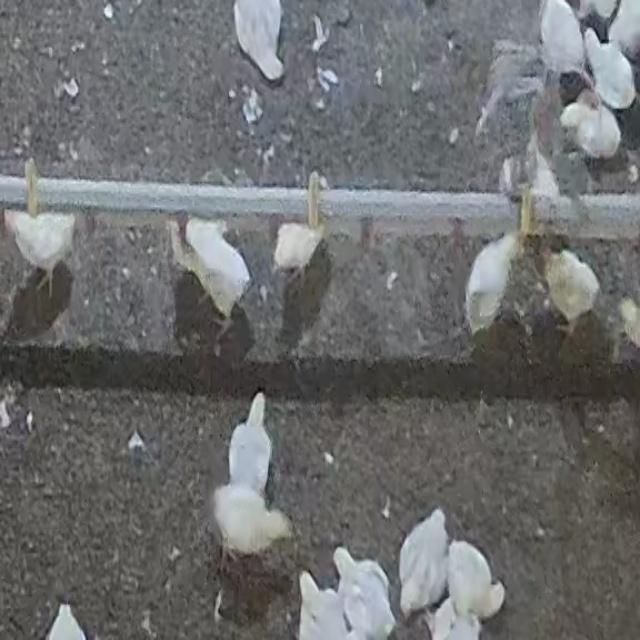chicken: (182, 216, 250, 322), (500, 126, 566, 222), (465, 228, 520, 336), (7, 200, 70, 292), (333, 548, 396, 639), (214, 483, 292, 556), (399, 509, 450, 619), (542, 243, 600, 336), (229, 391, 273, 498), (560, 91, 622, 162), (582, 28, 634, 112), (232, 1, 286, 80), (447, 541, 501, 620), (538, 0, 585, 78), (298, 573, 352, 639), (273, 220, 325, 276)
